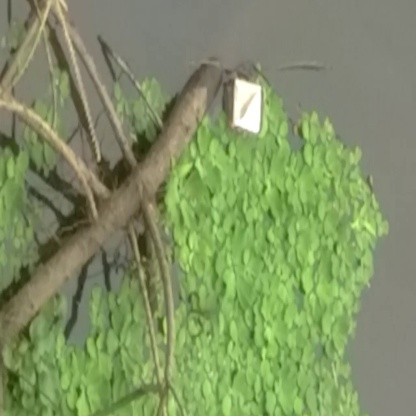branch: (43, 11, 130, 161)
